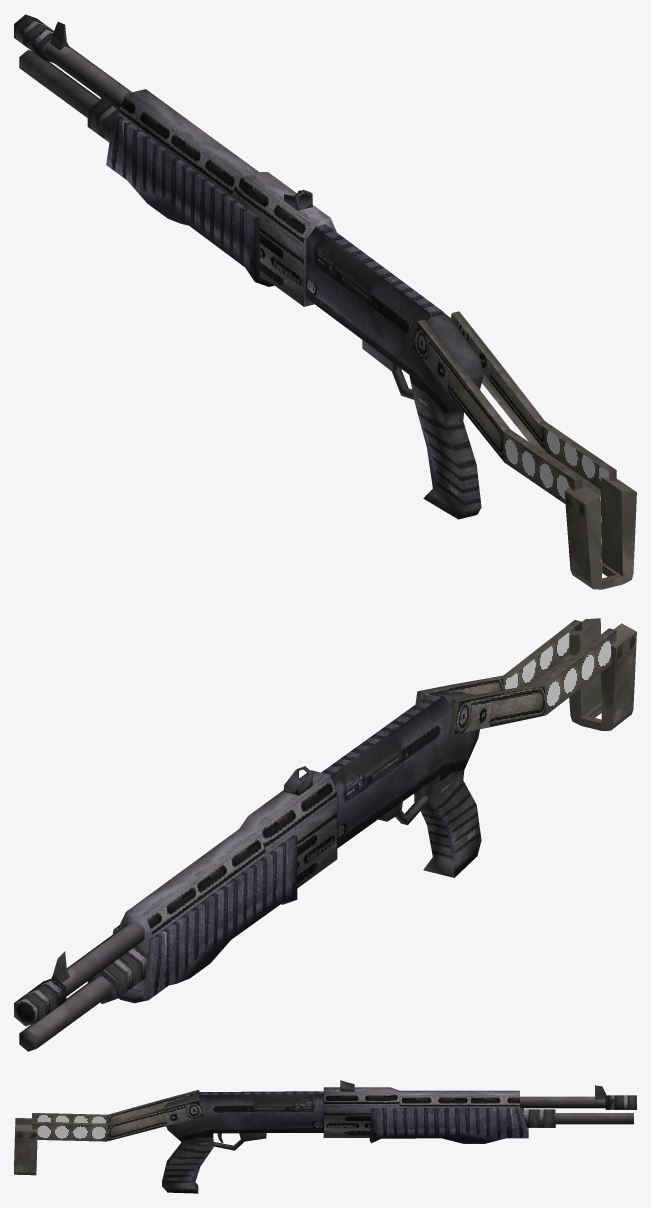
File: Spas_glb.glb
3 views of the same model, one above another, from view 1: azimuth 30°, elevation 25°; view 2: azimuth 150°, elevation 25°; view 3: azimuth 270°, elevation 25° (orthographic). The views are drawn at different scales.
Parts seen in each view (by area): view 1: Shotgun, Stock, HandGuard, Pump, Cube, Barrel.001, Ammo Tube; view 2: Shotgun, HandGuard, Pump, Stock, Cube, Ammo Tube, Barrel.001; view 3: Shotgun, HandGuard, Pump, Stock, Barrel.001, Ammo Tube, Cube, Trigger Guard.
Boxes of the visible parts, <box> form: Shotgun: <box>306,224,483,519</box>; Stock: <box>412,311,616,503</box>; HandGuard: <box>119,89,336,306</box>; Pump: <box>106,114,274,286</box>; Cube: <box>564,477,636,589</box>; Barrel.001: <box>14,14,131,110</box>; Ammo Tube: <box>19,49,118,142</box>; Shotgun: <box>321,691,481,877</box>; HandGuard: <box>119,770,337,990</box>; Pump: <box>112,835,297,1003</box>; Stock: <box>415,620,616,734</box>; Cube: <box>569,618,636,730</box>; Ammo Tube: <box>19,945,147,1051</box>; Barrel.001: <box>14,921,144,1026</box>; Shotgun: <box>162,1091,323,1193</box>; HandGuard: <box>323,1087,519,1137</box>; Pump: <box>369,1107,528,1143</box>; Stock: <box>32,1089,203,1141</box>; Barrel.001: <box>520,1095,636,1109</box>; Ammo Tube: <box>522,1109,633,1127</box>; Cube: <box>14,1118,37,1175</box>; Trigger Guard: <box>213,1133,266,1150</box>.
Bounding box in the file's own units: 0.2489 × 0.9565 × 4.92.
1 material, 1 textured.
